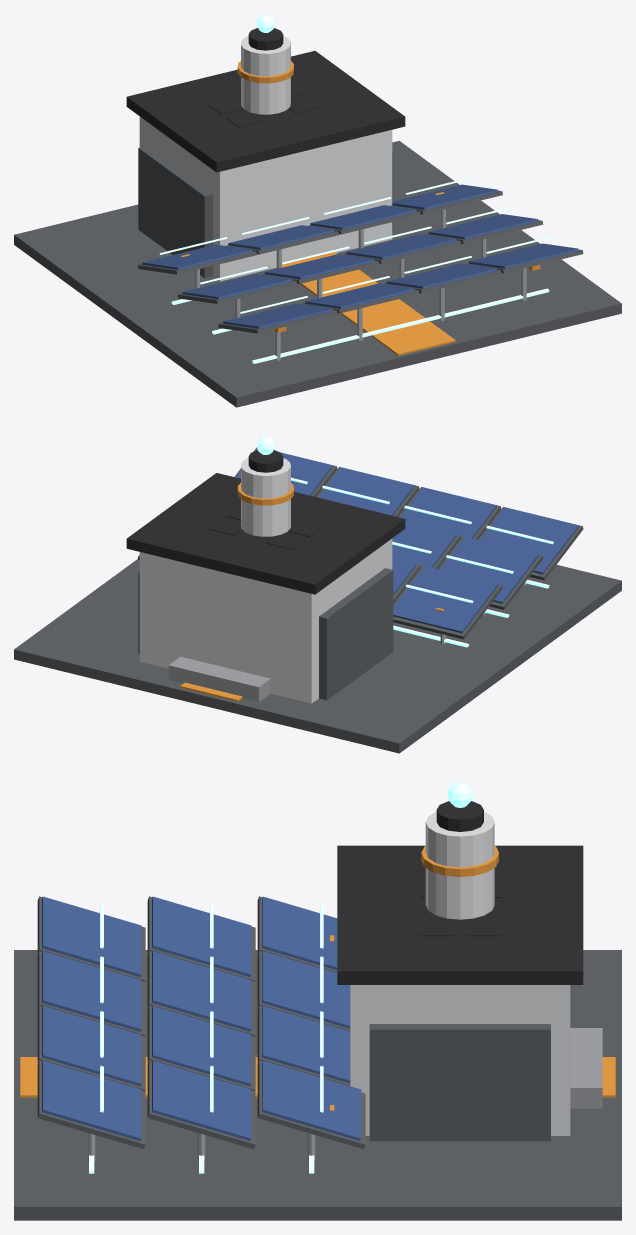
File: SM_Hero_Power.glb
3 renders of one model, top to bottom at view 1: azimuth 30°, elevation 25°; view 2: azimuth 150°, elevation 25°; view 3: azimuth 270°, elevation 25°, orthographic. The views are drawn at different scales.
Visible parts, largest first — view 1: SM_Hero_Power; view 2: SM_Hero_Power; view 3: SM_Hero_Power.
Boxes of the visible parts, x1,y1,x2,y2 form: SM_Hero_Power: [14, 14, 621, 407]; SM_Hero_Power: [14, 436, 621, 753]; SM_Hero_Power: [14, 782, 621, 1220].
Bounding box in the file's own units: 5.64 × 3.16 × 5.64.
